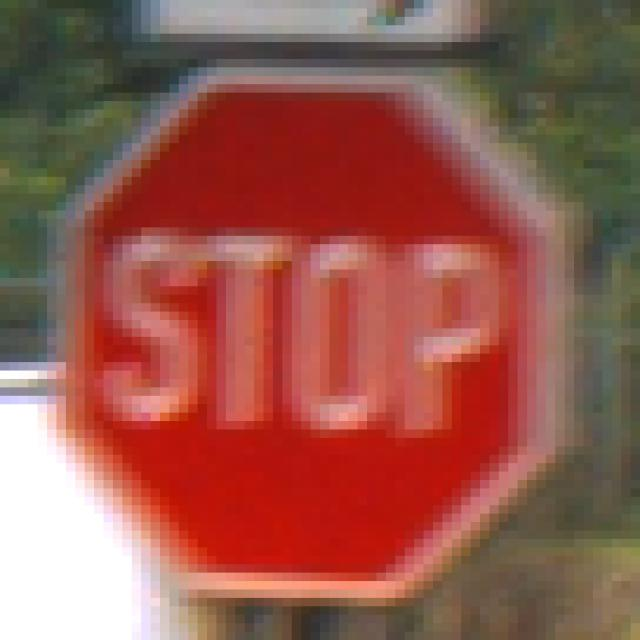STOP: (67, 60, 584, 590)
